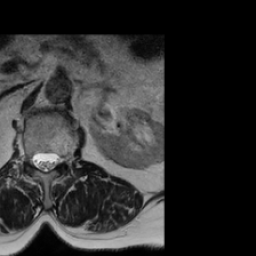CCS_normal: (40, 144, 49, 177)
LFS_stenosis: (59, 145, 66, 169)
LLS_normal: (49, 144, 59, 173)
RFS_normal: (25, 146, 32, 169)
RLS_normal: (32, 145, 40, 173)
